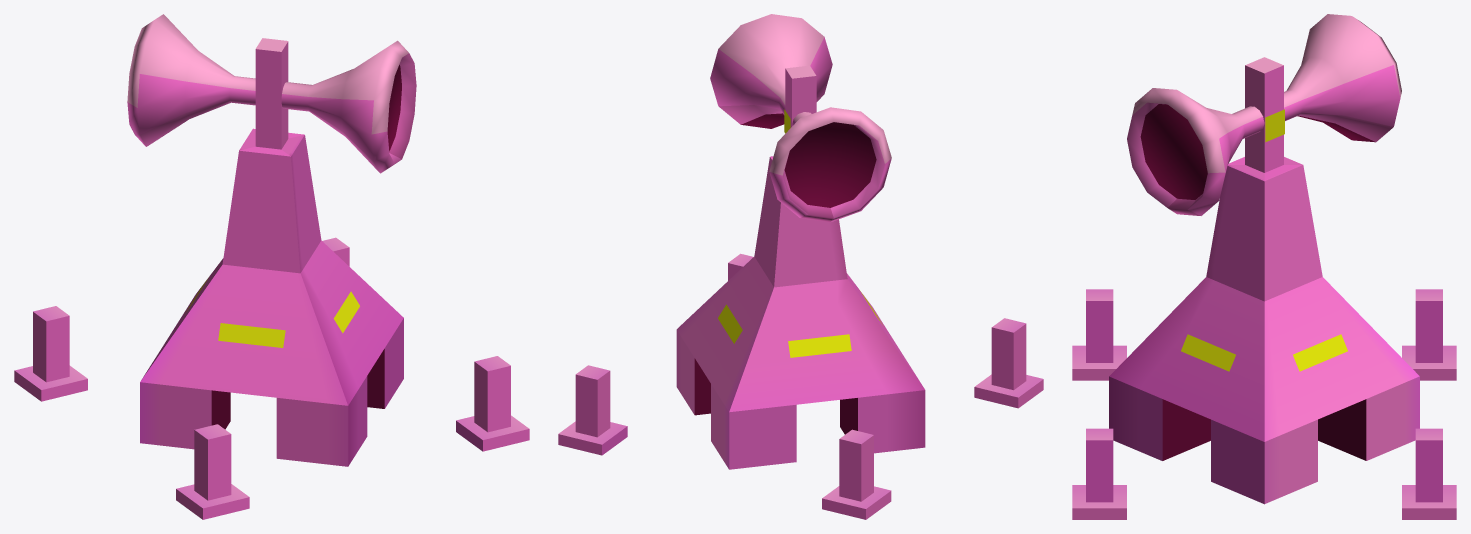
File: CommTower.PinkCosmos.glb
The picture shows the model from 3 angles, left to right: view 1: azimuth 30°, elevation 25°; view 2: azimuth 150°, elevation 25°; view 3: azimuth 270°, elevation 25°; orthographic projection. The views are drawn at different scales.
Visible parts, largest first — view 1: CommTower.PinkCosmos; view 2: CommTower.PinkCosmos; view 3: CommTower.PinkCosmos.
Boxes of the visible parts, x1,y1,x2,y2 form: CommTower.PinkCosmos: [14, 14, 529, 519]; CommTower.PinkCosmos: [558, 14, 1043, 519]; CommTower.PinkCosmos: [1072, 14, 1456, 519].
Size of the model in its own units: 2.8 by 3.1 by 2.8.
Materials: 2 (1 with a texture image).
